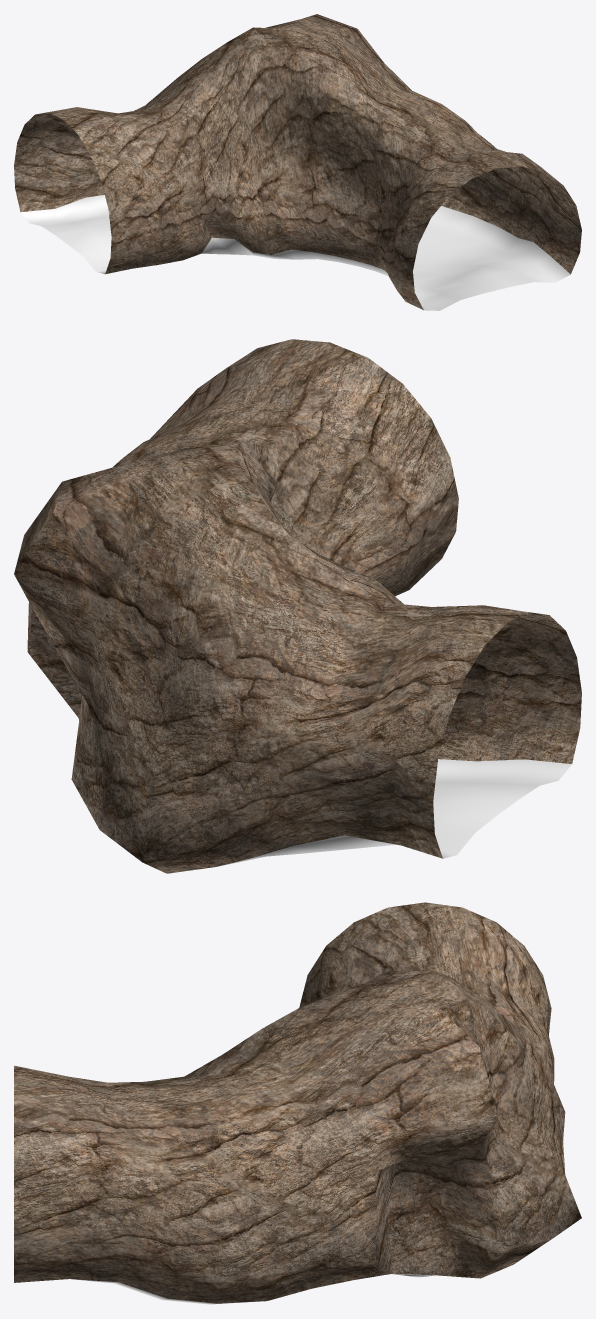
File: CaveCorridorTurnLeft.fbx
3 views of the same model, one above another, from view 1: azimuth 30°, elevation 25°; view 2: azimuth 150°, elevation 25°; view 3: azimuth 270°, elevation 25° (orthographic). The views are drawn at different scales.
Parts seen in each view (by area): view 1: CaveCorridorTurnLeft; view 2: CaveCorridorTurnLeft; view 3: CaveCorridorTurnLeft.
Part boxes in pixels (box(x1,y1,x2,y2)): CaveCorridorTurnLeft: box(14, 14, 581, 310); CaveCorridorTurnLeft: box(14, 339, 581, 873); CaveCorridorTurnLeft: box(14, 902, 581, 1304).
Size of the model in its own units: 684 by 397 by 718.
